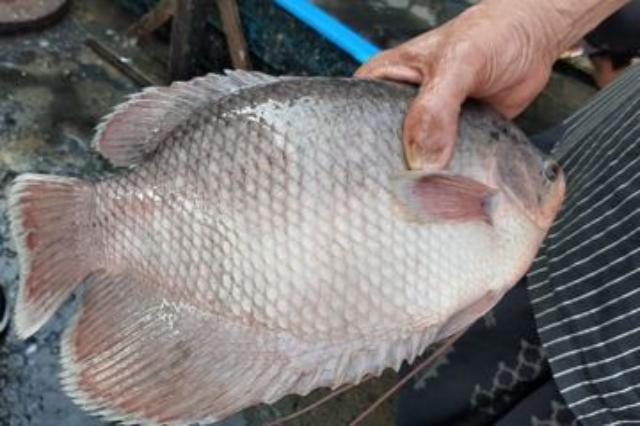Sirip Anal: (49, 242, 454, 426)
Sirip Dada: (364, 146, 511, 246)
Sirip Ekor: (2, 160, 128, 358)
Sirip Perut: (277, 277, 515, 426)
Sirip Punggung: (73, 58, 314, 188)
